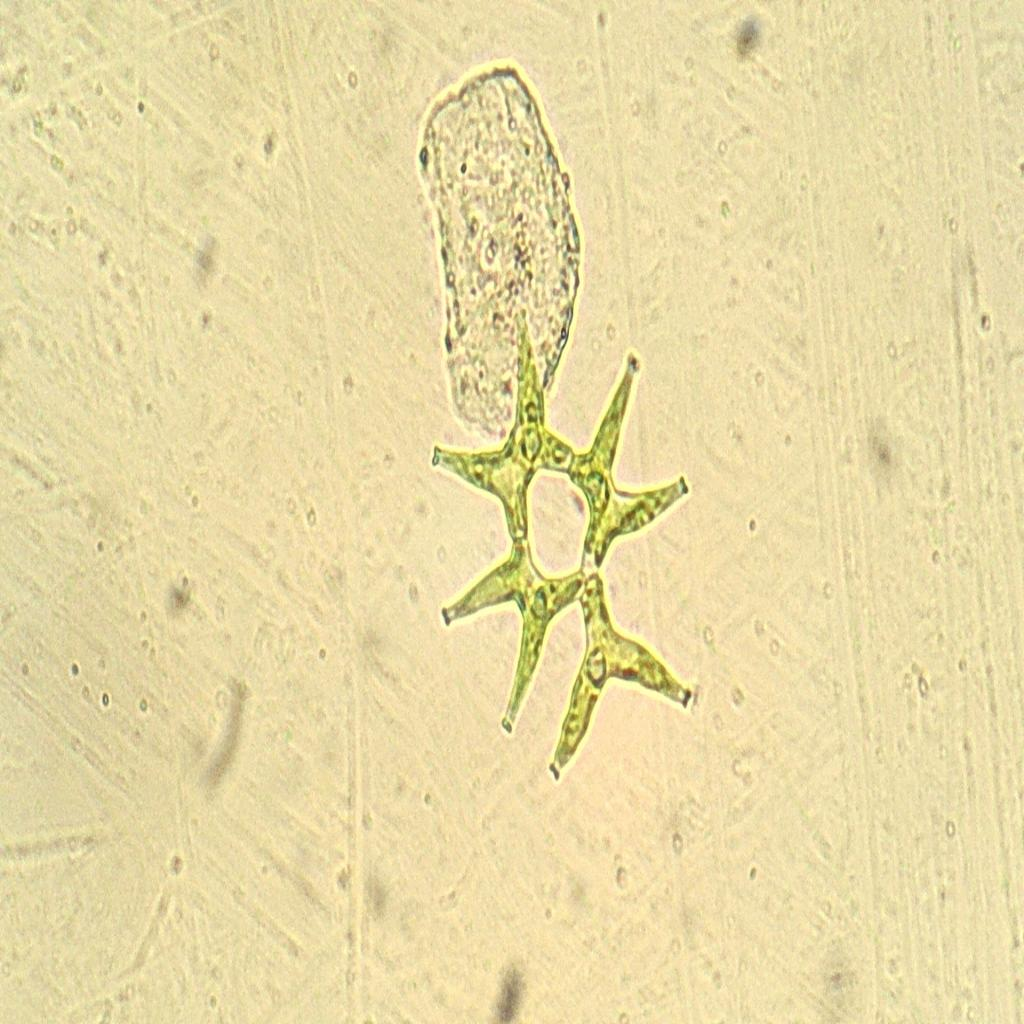Pediastrum_75FI: (413, 298, 714, 805)
